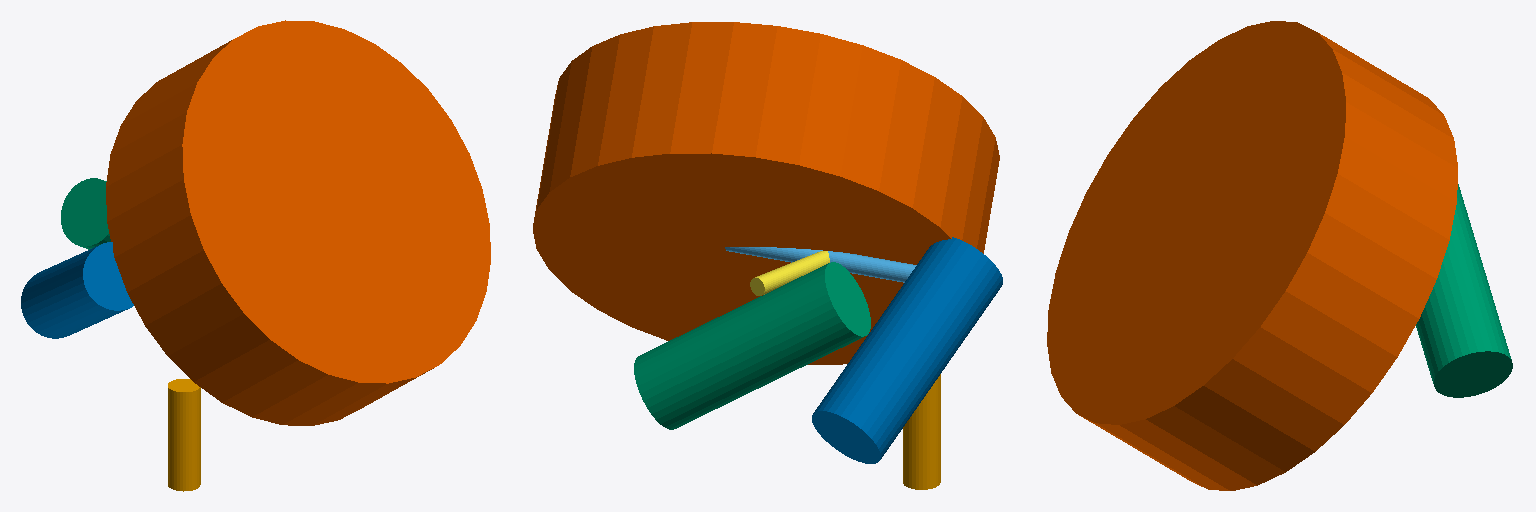
URDF robot description (pepe):
<?xml version="1.0"?><robot name="pepe">
	<link name="0">
		<visual>
			<geometry>
				<cylinder length="0.5497040348354265" radius="0.08290555145947454"/>
			</geometry>
		</visual>
		<collision>
			<geometry>
				<cylinder length="0.5497040348354265" radius="0.08290555145947454"/>
			</geometry>
		</collision>
		<inertial>
			<mass value="0.011869871631874503"/>
			<inertia ixx="0.03" iyy="0.03" izz="0.03" ixy="0" ixz="0" iyx="0"/>
		</inertial>
	</link>
	<link name="11">
		<visual>
			<geometry>
				<cylinder length="0.8967394824818531" radius="0.04193824181657124"/>
			</geometry>
		</visual>
		<collision>
			<geometry>
				<cylinder length="0.8967394824818531" radius="0.04193824181657124"/>
			</geometry>
		</collision>
		<inertial>
			<mass value="0.004954919503492346"/>
			<inertia ixx="0.03" iyy="0.03" izz="0.03" ixy="0" ixz="0" iyx="0"/>
		</inertial>
	</link>
	<link name="32">
		<visual>
			<geometry>
				<cylinder length="0.9981374546184976" radius="0.17662623604681071"/>
			</geometry>
		</visual>
		<collision>
			<geometry>
				<cylinder length="0.9981374546184976" radius="0.17662623604681071"/>
			</geometry>
		</collision>
		<inertial>
			<mass value="0.09782517950307575"/>
			<inertia ixx="0.03" iyy="0.03" izz="0.03" ixy="0" ixz="0" iyx="0"/>
		</inertial>
	</link>
	<link name="13">
		<visual>
			<geometry>
				<cylinder length="0.8967394824818531" radius="0.04193824181657124"/>
			</geometry>
		</visual>
		<collision>
			<geometry>
				<cylinder length="0.8967394824818531" radius="0.04193824181657124"/>
			</geometry>
		</collision>
		<inertial>
			<mass value="0.004954919503492346"/>
			<inertia ixx="0.03" iyy="0.03" izz="0.03" ixy="0" ixz="0" iyx="0"/>
		</inertial>
	</link>
	<link name="34">
		<visual>
			<geometry>
				<cylinder length="0.9981374546184976" radius="0.17662623604681071"/>
			</geometry>
		</visual>
		<collision>
			<geometry>
				<cylinder length="0.9981374546184976" radius="0.17662623604681071"/>
			</geometry>
		</collision>
		<inertial>
			<mass value="0.09782517950307575"/>
			<inertia ixx="0.03" iyy="0.03" izz="0.03" ixy="0" ixz="0" iyx="0"/>
		</inertial>
	</link>
	<link name="25">
		<visual>
			<geometry>
				<cylinder length="0.6433212171484022" radius="0.971338090606189"/>
			</geometry>
		</visual>
		<collision>
			<geometry>
				<cylinder length="0.6433212171484022" radius="0.971338090606189"/>
			</geometry>
		</collision>
		<inertial>
			<mass value="1.906859027157627"/>
			<inertia ixx="0.03" iyy="0.03" izz="0.03" ixy="0" ixz="0" iyx="0"/>
		</inertial>
	</link>
	<joint name="11_to_0" type="revolute">
		<parent link="0"/>
		<child link="11"/>
		<axis xyz="1 0 0"/>
		<limit effort="1" upper="-3.1415" lower="3.1415" velocity="1"/>
		<origin rpy="10.23922609618671 1.625147354185866 4.154556798166229" xyz="0.2992529856522891 0.30051632747002793 0.8374601513620445"/>
	</joint>
	<joint name="32_to_11" type="revolute">
		<parent link="11"/>
		<child link="32"/>
		<axis xyz="1 0 0"/>
		<limit effort="1" upper="-3.1415" lower="3.1415" velocity="1"/>
		<origin rpy="9.819817811725425 2.6687860885179737 3.9928039620957514" xyz="0.19543214138137233 0.5965009280257262 0.12811441727286188"/>
	</joint>
	<joint name="13_to_0" type="revolute">
		<parent link="0"/>
		<child link="13"/>
		<axis xyz="1 0 0"/>
		<limit effort="1" upper="-3.1415" lower="3.1415" velocity="1"/>
		<origin rpy="15.358839144280065 1.625147354185866 4.154556798166229" xyz="0.2992529856522891 0.30051632747002793 0.8374601513620445"/>
	</joint>
	<joint name="34_to_13" type="revolute">
		<parent link="13"/>
		<child link="34"/>
		<axis xyz="1 0 0"/>
		<limit effort="1" upper="-3.1415" lower="3.1415" velocity="1"/>
		<origin rpy="9.819817811725425 2.6687860885179737 3.9928039620957514" xyz="0.19543214138137233 0.5965009280257262 0.12811441727286188"/>
	</joint>
	<joint name="25_to_0" type="revolute">
		<parent link="0"/>
		<child link="25"/>
		<axis xyz="0 1 0"/>
		<limit effort="1" upper="-3.1415" lower="3.1415" velocity="1"/>
		<origin rpy="12.184885106488965 3.994850437863638 5.535374955921144" xyz="0.7194301717707534 0.09503474439376913 0.9687467520984928"/>
	</joint>
</robot>

--- Render facts (derived) ---
Views: 3 orthographic renders of the robot side by side, from view 1: azimuth 30°, elevation 25°; view 2: azimuth 150°, elevation 25°; view 3: azimuth 270°, elevation 25°.
Model pepe with 6 links and 5 joints (5 revolute), rooted at 0, posed every joint at zero.
Visible links, largest first — view 1: 25, 34, 0, 32; view 2: 25, 32, 34, 0, 11, 13; view 3: 25, 32.
Link boxes in pixels (x1,y1,x2,y2): 25: (106, 20, 490, 425); 34: (21, 242, 133, 338); 0: (168, 379, 200, 491); 32: (61, 178, 110, 249); 25: (533, 22, 999, 364); 32: (634, 262, 870, 429); 34: (812, 237, 1002, 463); 0: (903, 374, 940, 489); 11: (725, 247, 916, 282); 13: (750, 251, 829, 295); 25: (1047, 21, 1457, 490); 32: (1416, 184, 1512, 397).
Size in the robot's own frame: 2.23 by 2 by 2.21 metres.
Geometry: primitives only (box / cylinder / sphere), no mesh files.
